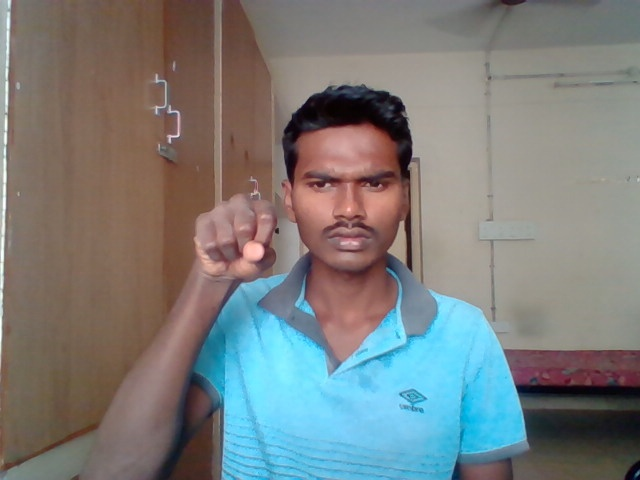Thank You: (189, 191, 281, 284)
